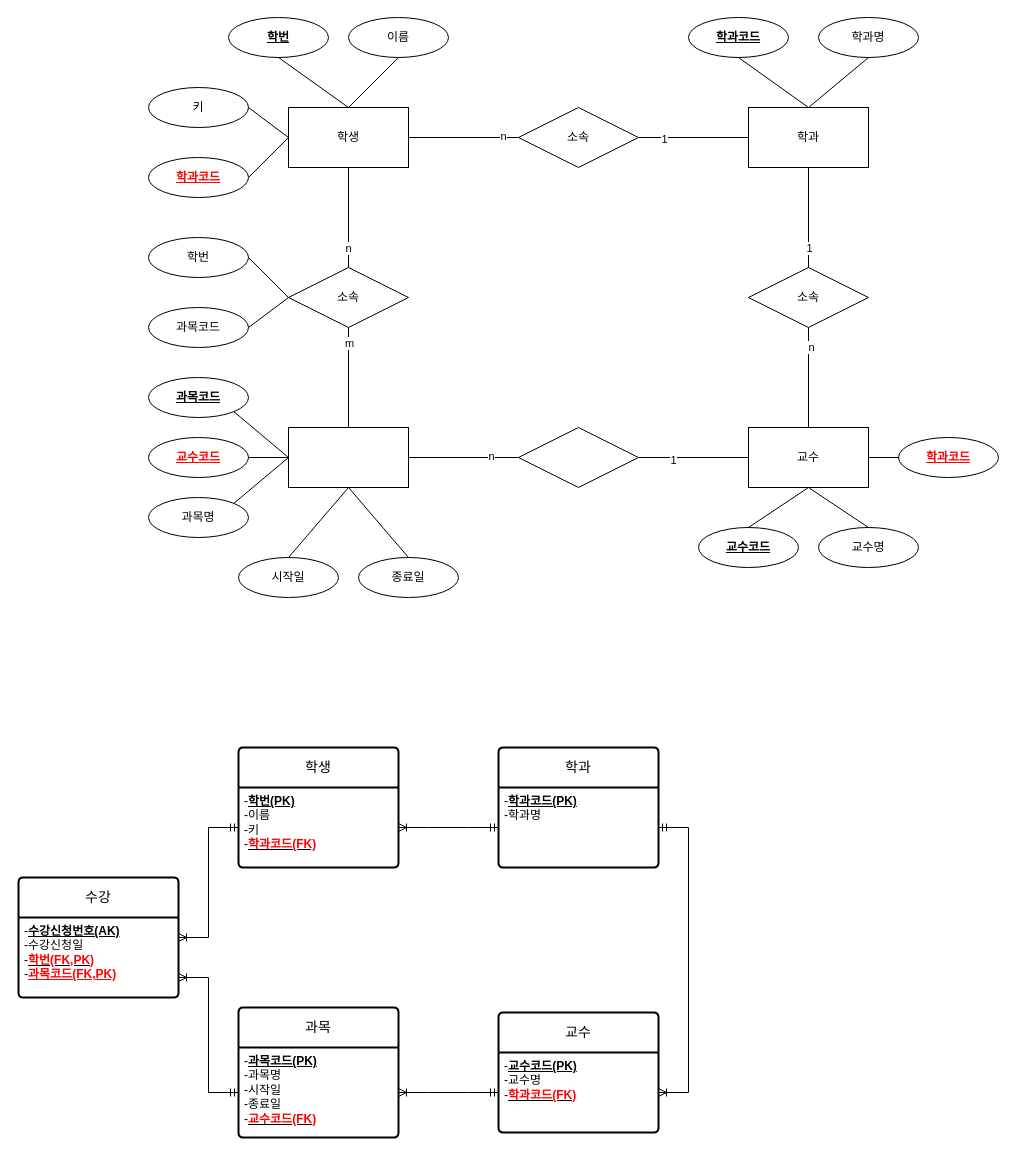
Image size: 1016x1156. Some labels were removed from this diagram. Each missing label, with the centre of its shape:
"강의" belongs at (x=578, y=457).
"개설과목" belongs at (x=348, y=457).
